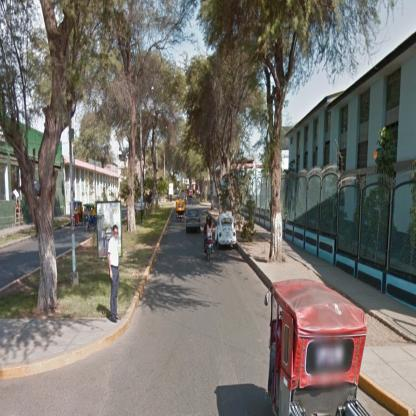Moto: (204, 217, 214, 263)
Peaton: (108, 226, 122, 325)
Pista: (138, 265, 284, 313)
Vehiculo: (265, 279, 371, 416), (216, 214, 237, 252), (84, 204, 98, 234), (187, 210, 203, 234), (177, 200, 186, 225)
